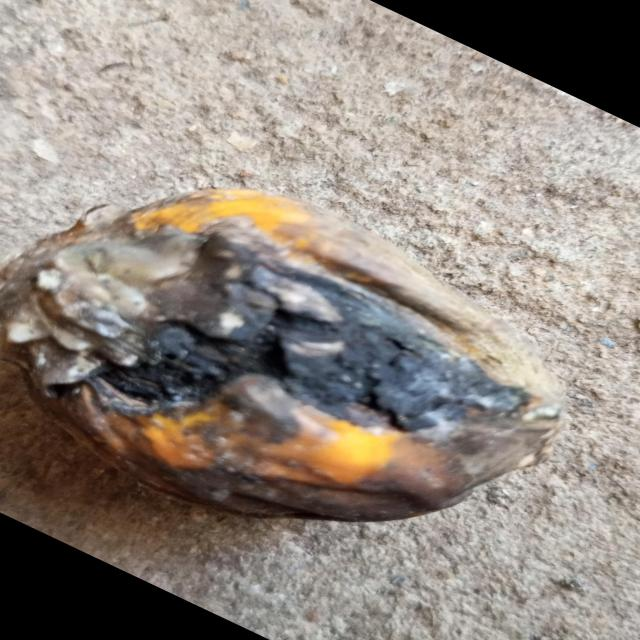damaged: (0, 188, 566, 525)
